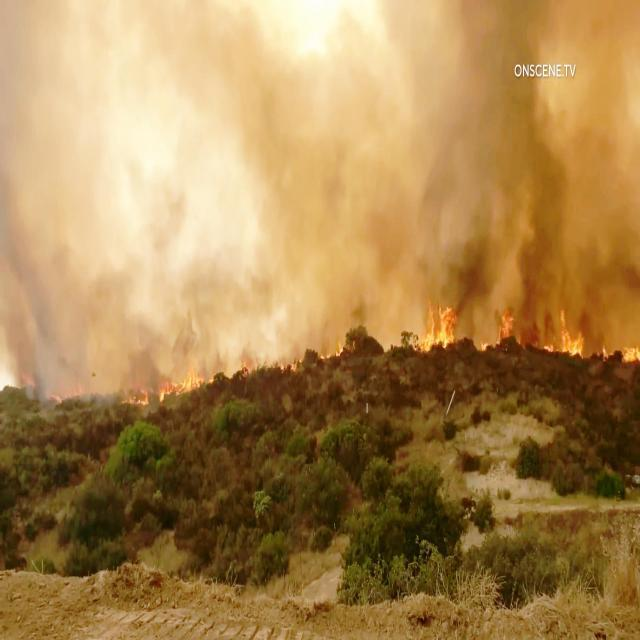Fire: (417, 301, 640, 364), (134, 354, 218, 397), (542, 306, 576, 366)
Smoke: (0, 0, 640, 300), (1, 305, 408, 358)
